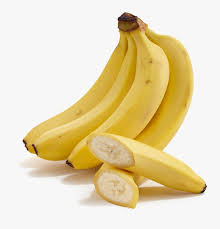banana: (19, 8, 210, 211), (81, 131, 207, 209)
